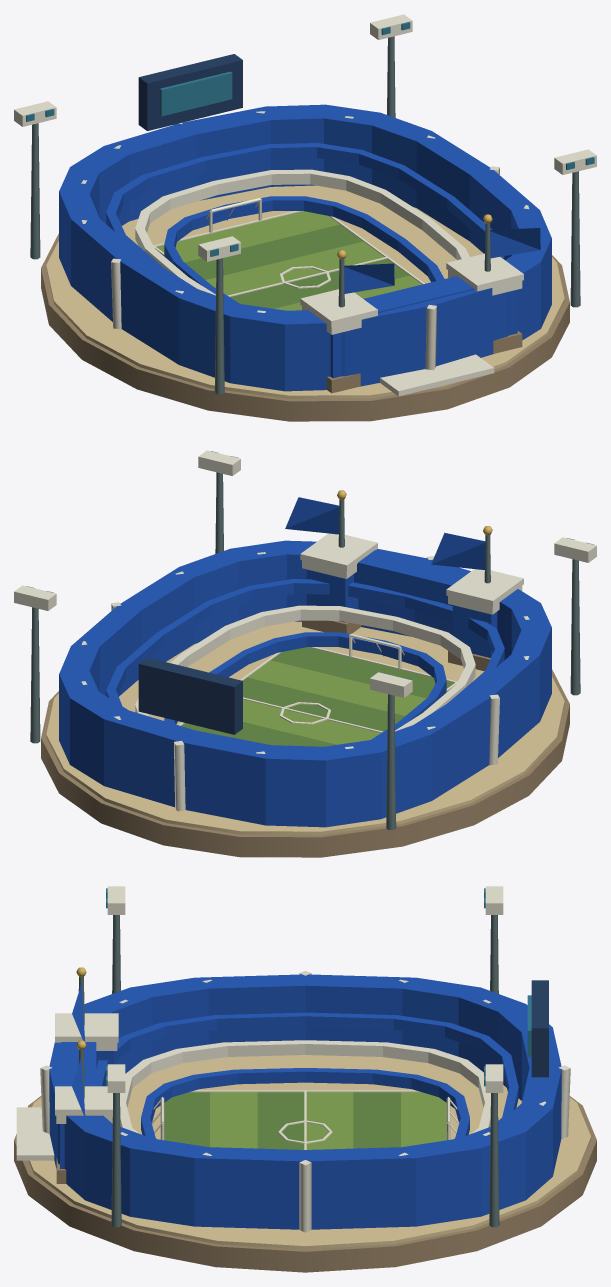
File: main-stadium-lv2.glb
3 views of the same model, one above another, from view 1: azimuth 30°, elevation 25°; view 2: azimuth 150°, elevation 25°; view 3: azimuth 270°, elevation 25° (orthographic). The views are drawn at different scales.
Visible parts, largest first — view 1: stadium_shell_royal, foundation_sand, foundation_stoneDark, seating_royal, pitch_grassLight, seating_white, pitch_grass, lighting_iron, scoreboard_naval, entrance_pylons_roof_white, lighting_white, flags_royal (+10 smaller); view 2: stadium_shell_royal, foundation_sand, foundation_stoneDark, seating_royal, pitch_grass, pitch_grassLight, scoreboard_naval, seating_white, lighting_iron, entrance_pylons_roof_white, entrance_bridge_royal, lighting_white (+7 smaller); view 3: stadium_shell_royal, foundation_sand, foundation_stoneDark, seating_royal, pitch_grassLight, pitch_grass, seating_white, lighting_iron, entrance_pylons_roof_white, facade_ribs_white, lighting_white, scoreboard_naval (+5 smaller).
Boxes of the visible parts, box(x1,y1,x2,y2) form: stadium_shell_royal: box(59, 104, 551, 391); foundation_sand: box(46, 185, 564, 398); foundation_stoneDark: box(41, 233, 569, 421); seating_royal: box(106, 143, 504, 303); pitch_grassLight: box(156, 211, 421, 310); seating_white: box(135, 169, 469, 295); pitch_grass: box(184, 224, 409, 308); lighting_iron: box(30, 36, 580, 393); scoreboard_naval: box(138, 54, 242, 130); entrance_pylons_roof_white: box(300, 253, 523, 326); lighting_white: box(14, 14, 596, 261); flags_royal: box(344, 228, 540, 293); stadium_shell_royal: box(59, 540, 551, 827); foundation_sand: box(46, 621, 564, 834); foundation_stoneDark: box(41, 669, 569, 857); seating_royal: box(106, 579, 504, 739); pitch_grass: box(181, 647, 454, 746); pitch_grassLight: box(243, 660, 426, 744); scoreboard_naval: box(138, 657, 242, 734); seating_white: box(135, 605, 475, 731); lighting_iron: box(30, 472, 580, 829); entrance_pylons_roof_white: box(300, 533, 523, 606); entrance_bridge_royal: box(354, 550, 468, 605); lighting_white: box(14, 450, 596, 697); stadium_shell_royal: box(49, 974, 561, 1229); foundation_sand: box(28, 1055, 591, 1249); foundation_stoneDark: box(14, 1096, 596, 1272); seating_royal: box(96, 1012, 518, 1138); pitch_grassLight: box(210, 1092, 446, 1149); pitch_grass: box(164, 1092, 400, 1149); seating_white: box(120, 1040, 490, 1133); lighting_iron: box(111, 915, 499, 1227); entrance_pylons_roof_white: box(55, 1013, 118, 1115); facade_ribs_white: box(40, 971, 570, 1232); lighting_white: box(107, 886, 503, 1092); scoreboard_naval: box(531, 980, 548, 1077).
Size of the model in its own units: 0.9074 by 0.335 by 1.
